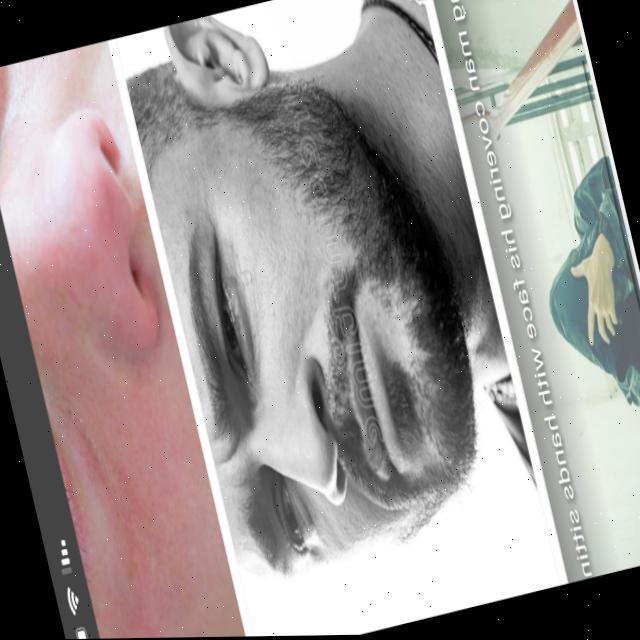natural: (122, 14, 498, 612)
